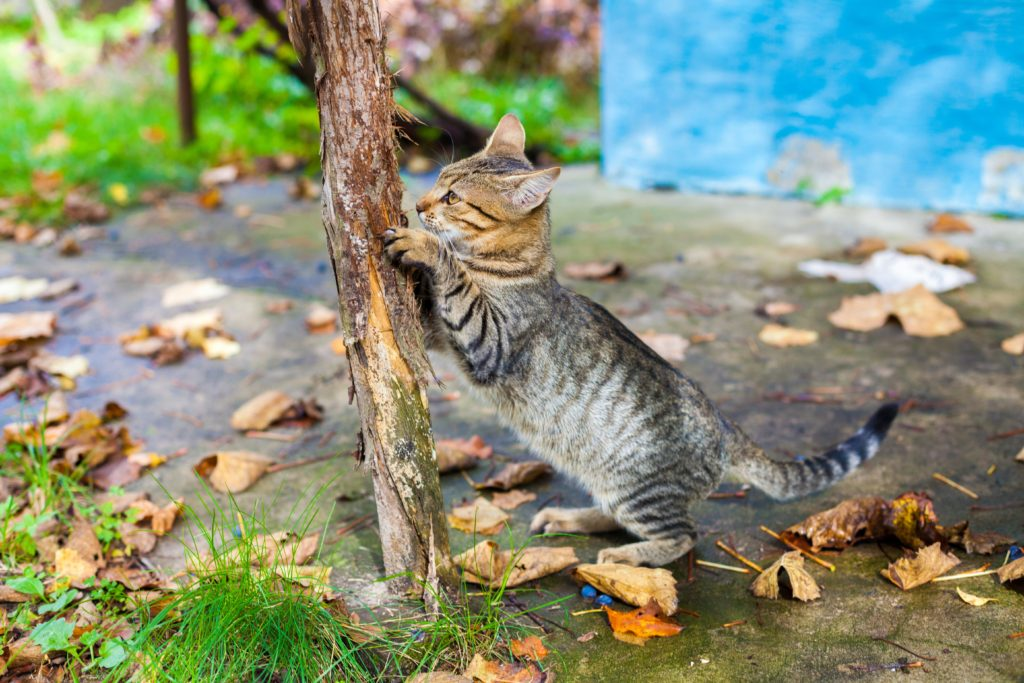cat: (387, 110, 895, 580)
